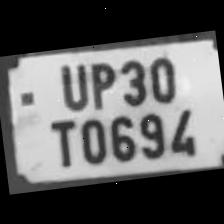0: (140, 50, 180, 104), (72, 110, 108, 166)
3: (113, 52, 148, 107)
4: (162, 103, 200, 160)
6: (104, 108, 138, 164)
9: (132, 104, 166, 160)
P: (82, 55, 119, 108)
T: (41, 113, 81, 170)
U: (50, 58, 90, 112)
